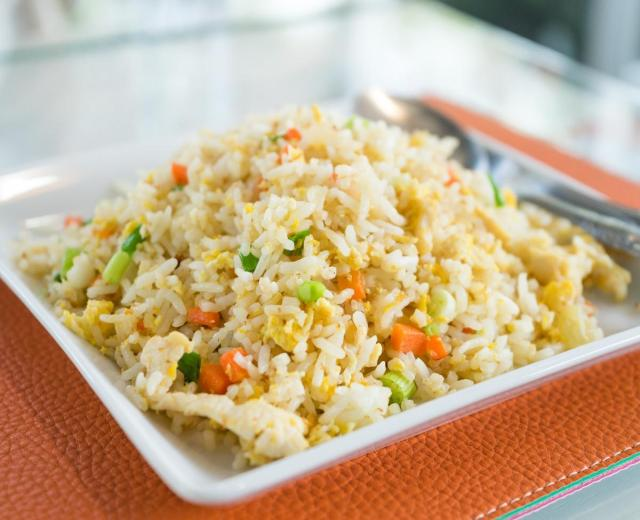fried rice: (9, 103, 622, 463)
